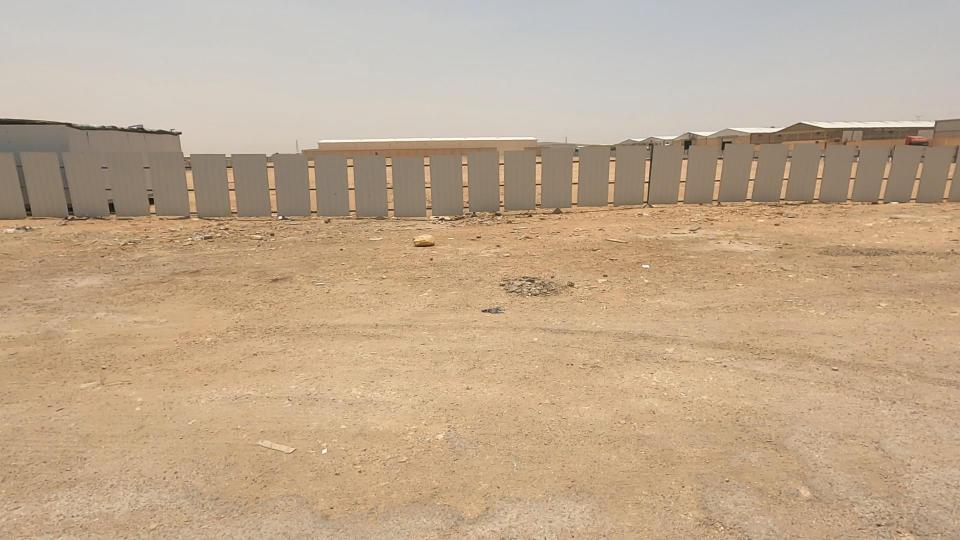GARBAGE: (475, 251, 578, 318), (403, 193, 472, 250), (257, 195, 310, 244)
